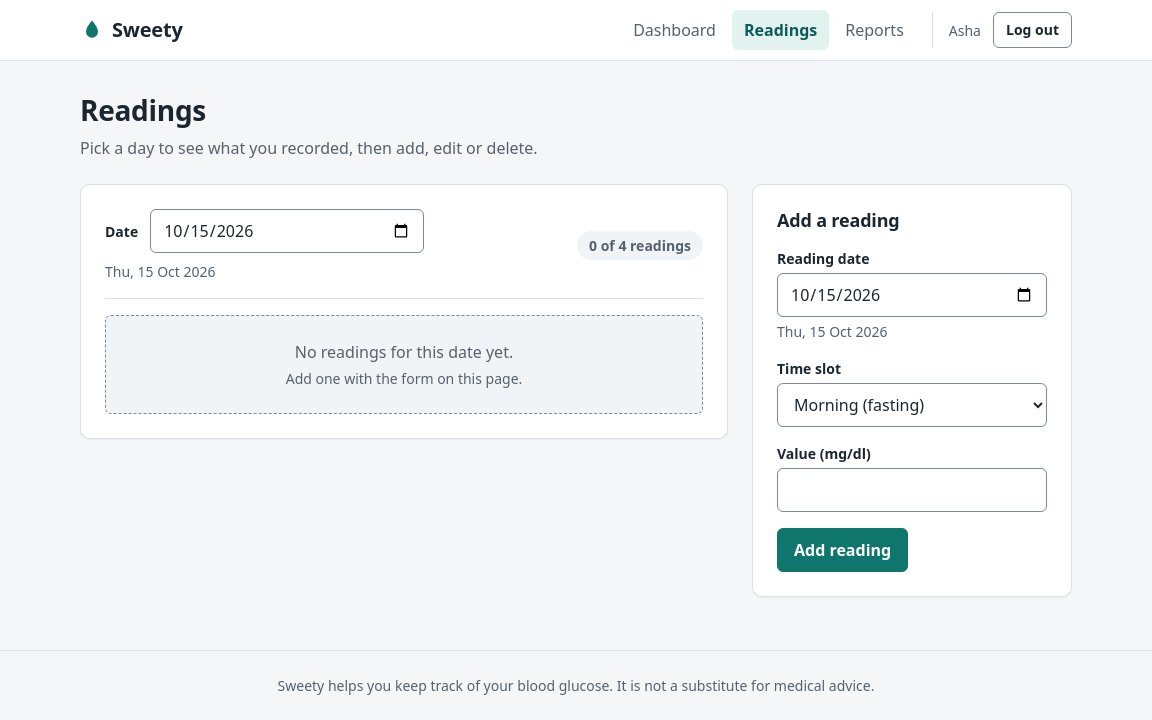
it: Add a reading form › shows the server's message when it refuses the reading
expect the text "0 of 4 readings" is shown: met, box [577, 231, 703, 260]
In the field labelled "Value (mg/dl)": (912, 490) [777, 468, 1047, 512], type "40"
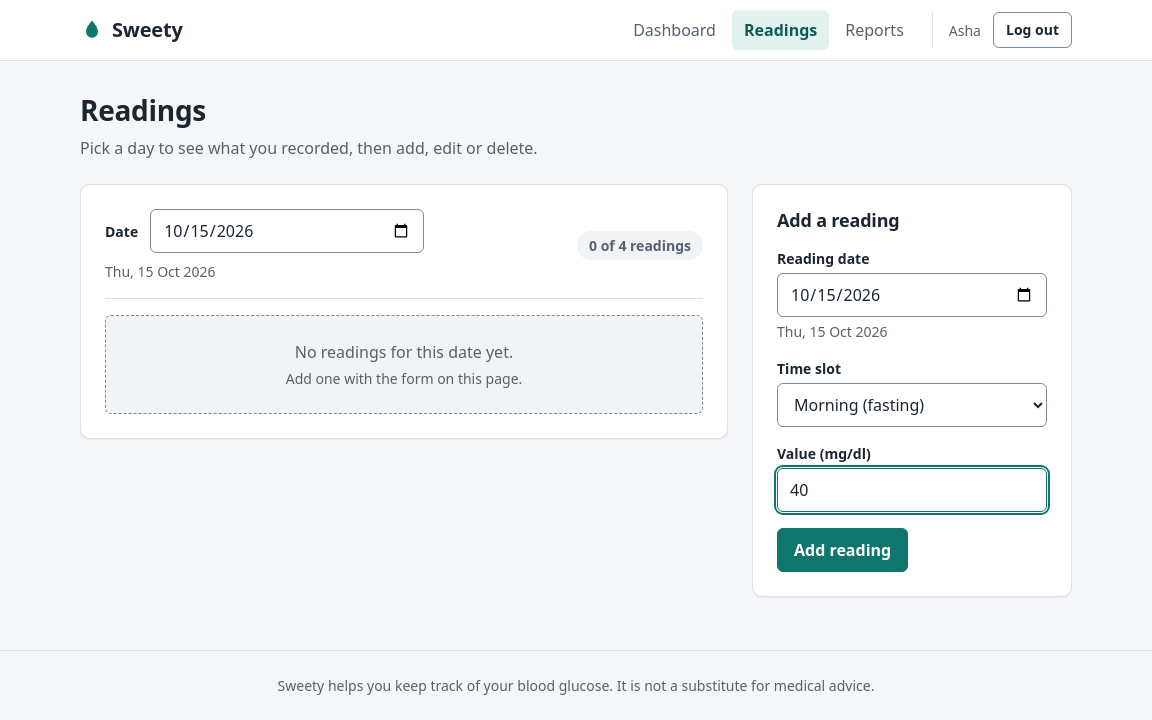
Click the button "Add reading": (843, 550) [777, 528, 908, 572]
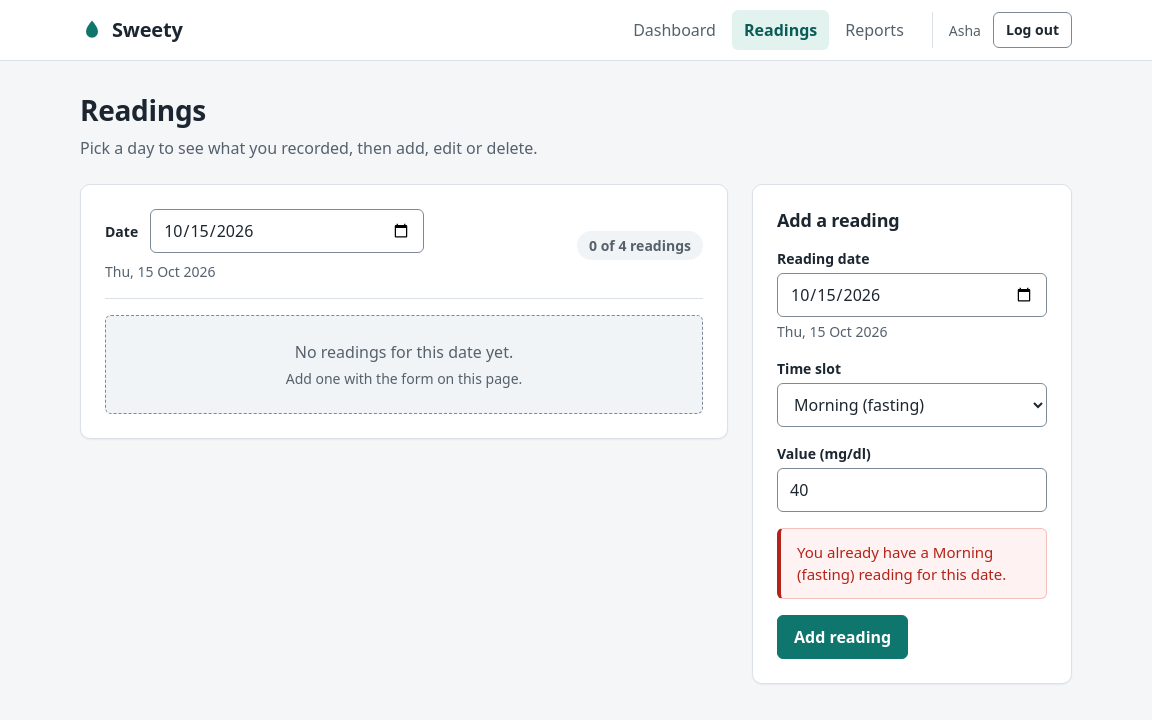
expect the button "Add reading" is enabled: met, box [777, 614, 908, 658]
expect the message reads "You already have a Morning (fasting) reading for this date.": met, box [797, 542, 1006, 584]
